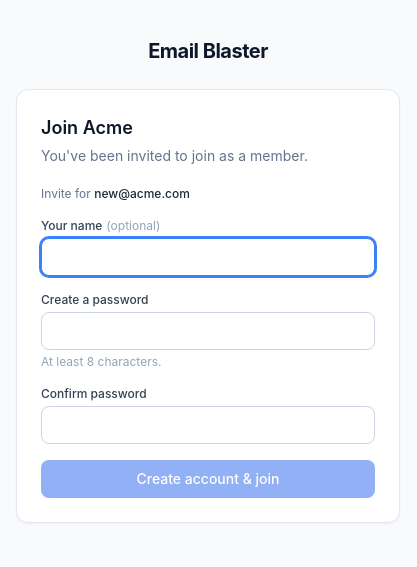
Test case: AcceptInvite page › new user: validates password confirmation client-side
Expected: the field with test id "invite-name" is shown, [41,238,375,276]
Step 1. Type "longenough" into the password field with test id "invite-password" → (208, 331), box [41,312,375,350]
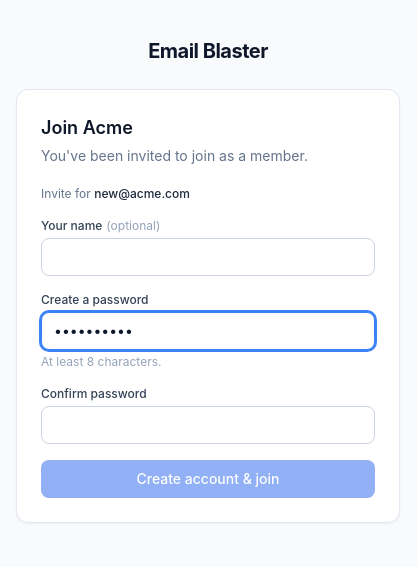
Step 2. Type "different1" into the password field with test id "invite-confirm" → (208, 425), box [41,406,375,444]
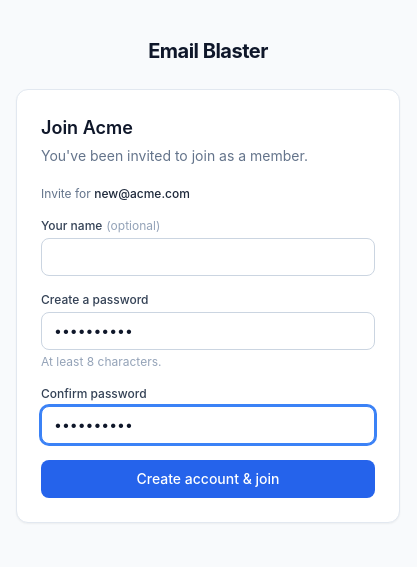
Step 3. Click the button with test id "invite-submit" → (208, 479), box [41,460,375,498]
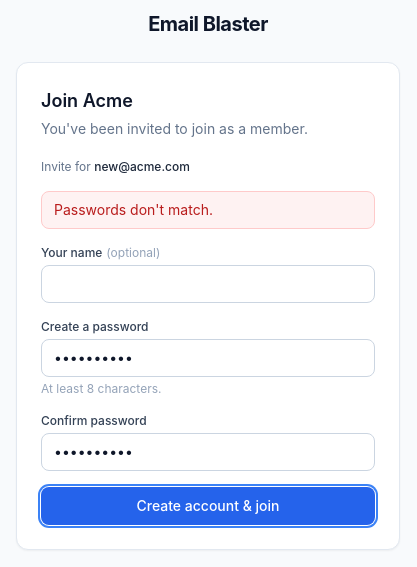
Expected: the message with test id "form-error" shows "don't match", [54,201,213,218]
